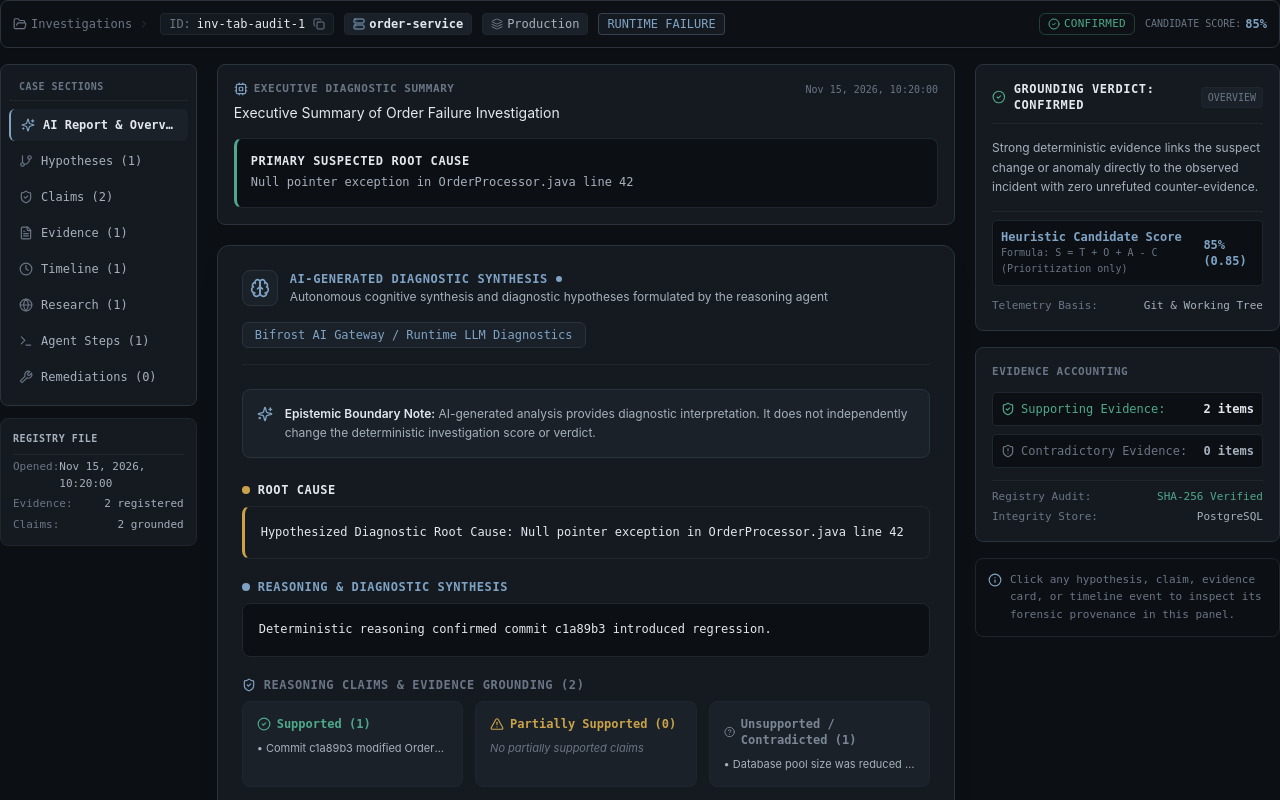
Test case: Phase 2.36 — Investigation Dossier Tab Navigation & Content › renders all 7 investigation dossier tabs and switches between them cleanly
This screenshot has width=1280, height=800.
expect the element named "Investigation Dossier Tabs" is shown: met, box 9,105 -> 188,397
expect the text "Executive Summary of Order Failure Investigation" is shown: met, box 234,104 -> 560,120
Click the tab "Hypotheses (1)" at (98, 161), box 9,145 -> 188,177
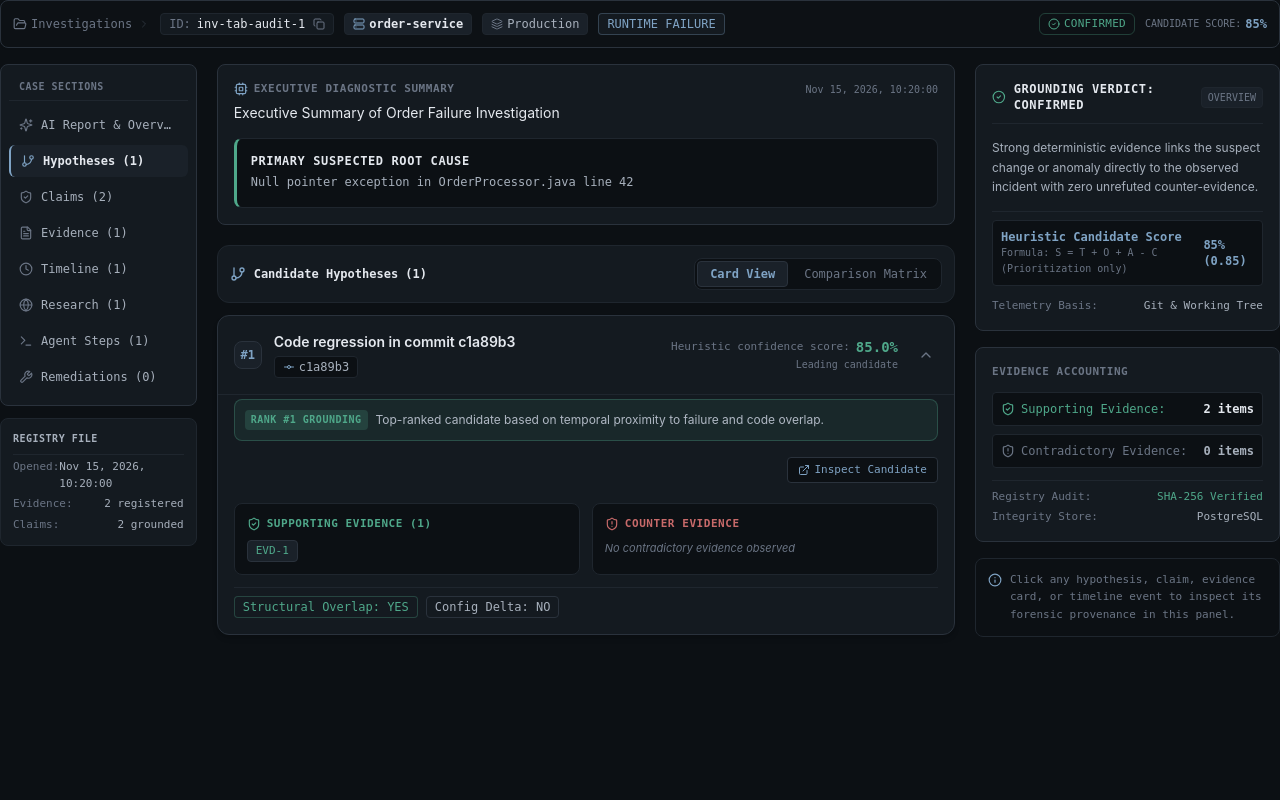
expect the heading "Code regression in commit c1a89b3" is shown: met, box 274,332 -> 516,352
Click the tab "Claims (2)" at (98, 197), box 9,181 -> 188,213
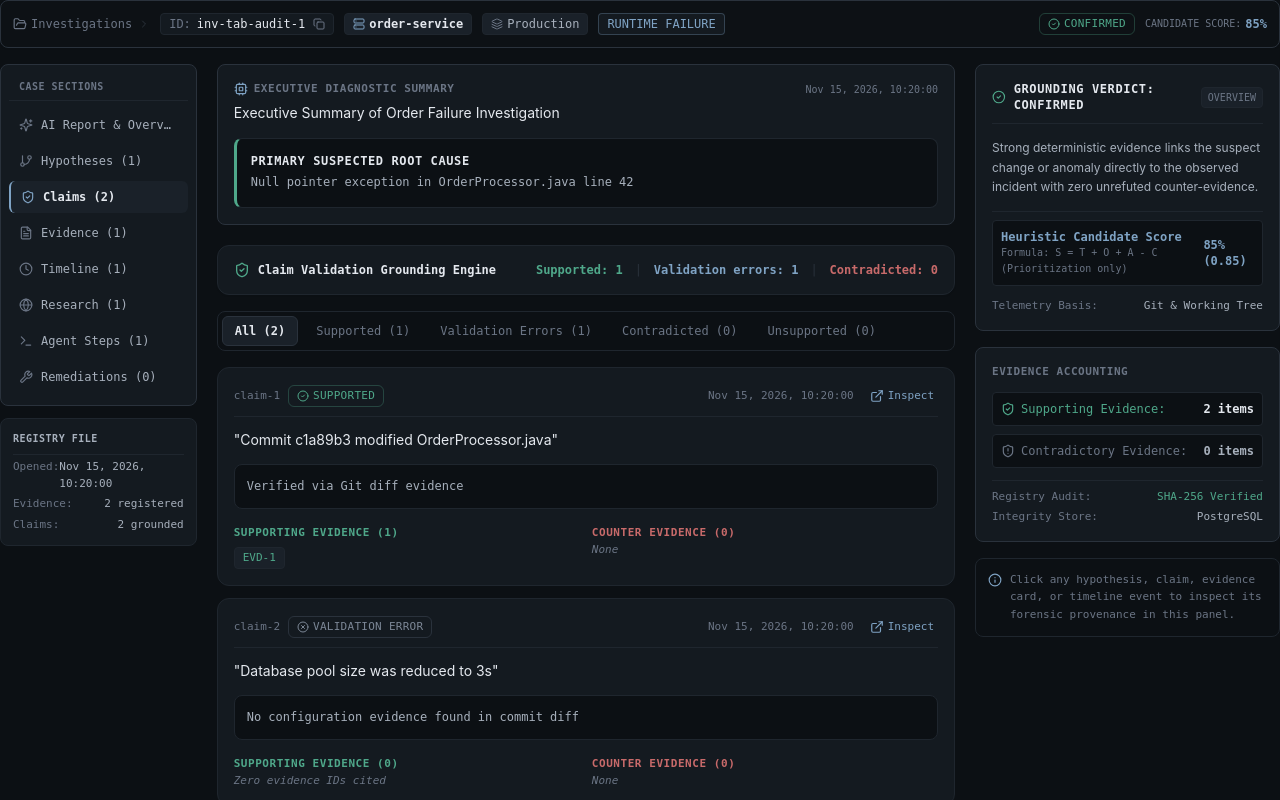
expect the text "\"Commit c1a89b3 modified OrderProcessor.java\"" is shown: met, box 234,431 -> 558,448
expect the text "SUPPORTED" is shown: met, box 313,388 -> 375,404
expect the text "VALIDATION ERROR" is shown: met, box 313,619 -> 423,635
Click the tab "Evidence (1)" at (98, 233), box 9,217 -> 188,249
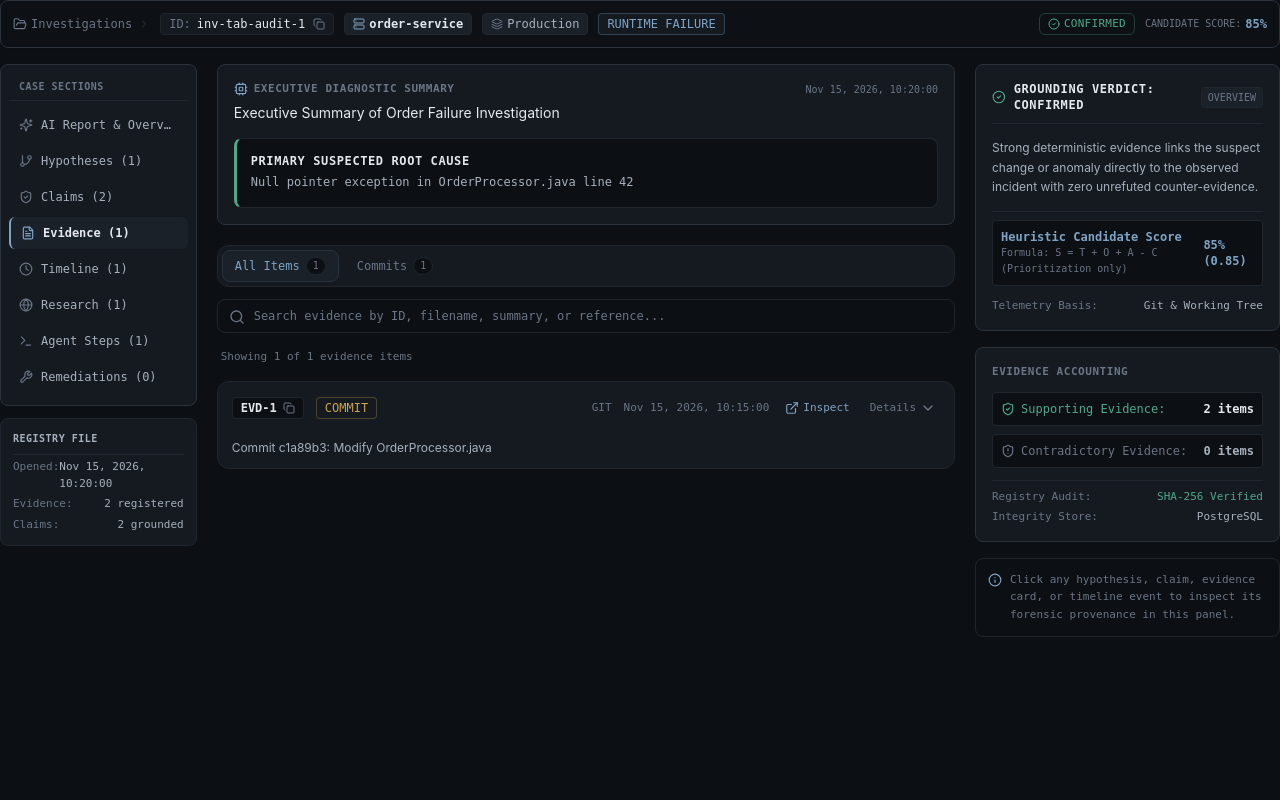
expect the text "EVD-1" is shown: met, box 241,400 -> 277,416
expect the tab "Evidence (1)" is selected: met, box 9,217 -> 188,249
Click the tab "Timeline (1)" at (98, 269), box 9,253 -> 188,285
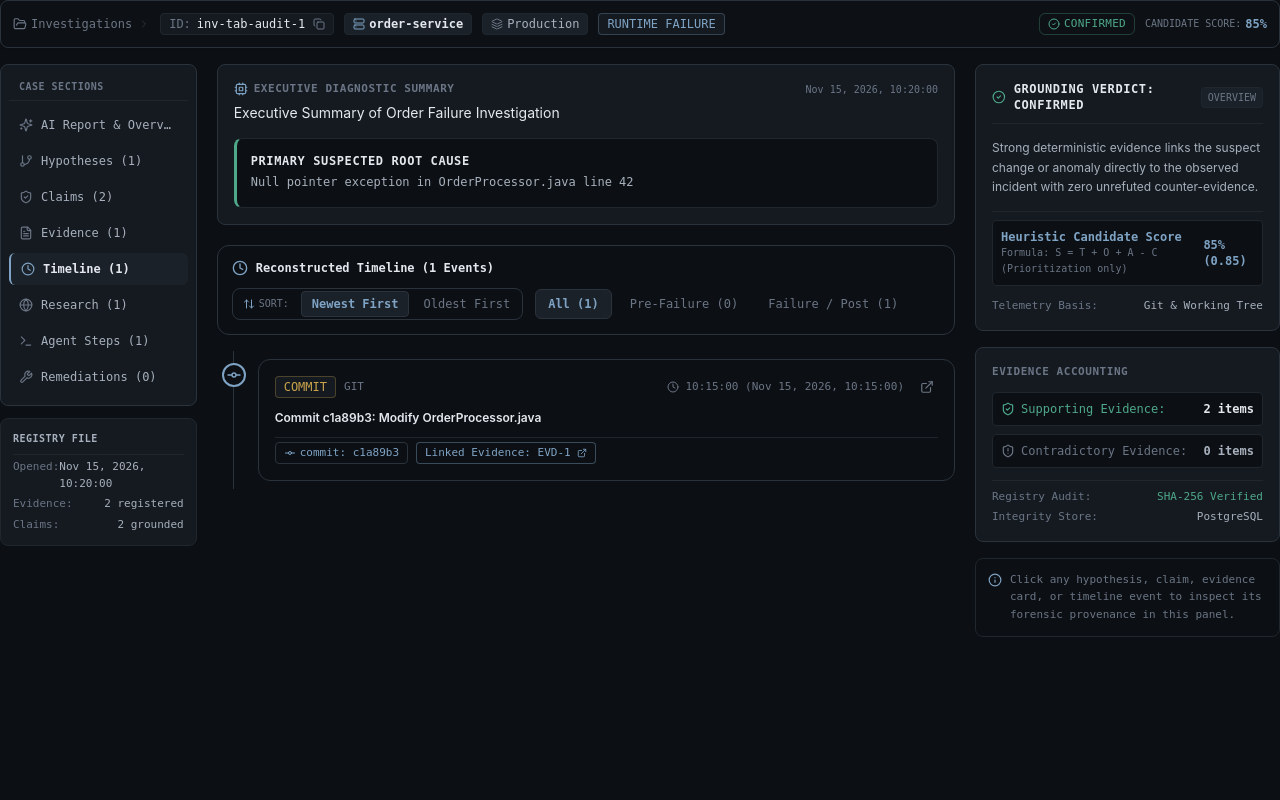
expect the tab "Timeline (1)" is selected: met, box 9,253 -> 188,285
Click the tab "Research (1)" at (98, 305), box 9,289 -> 188,321
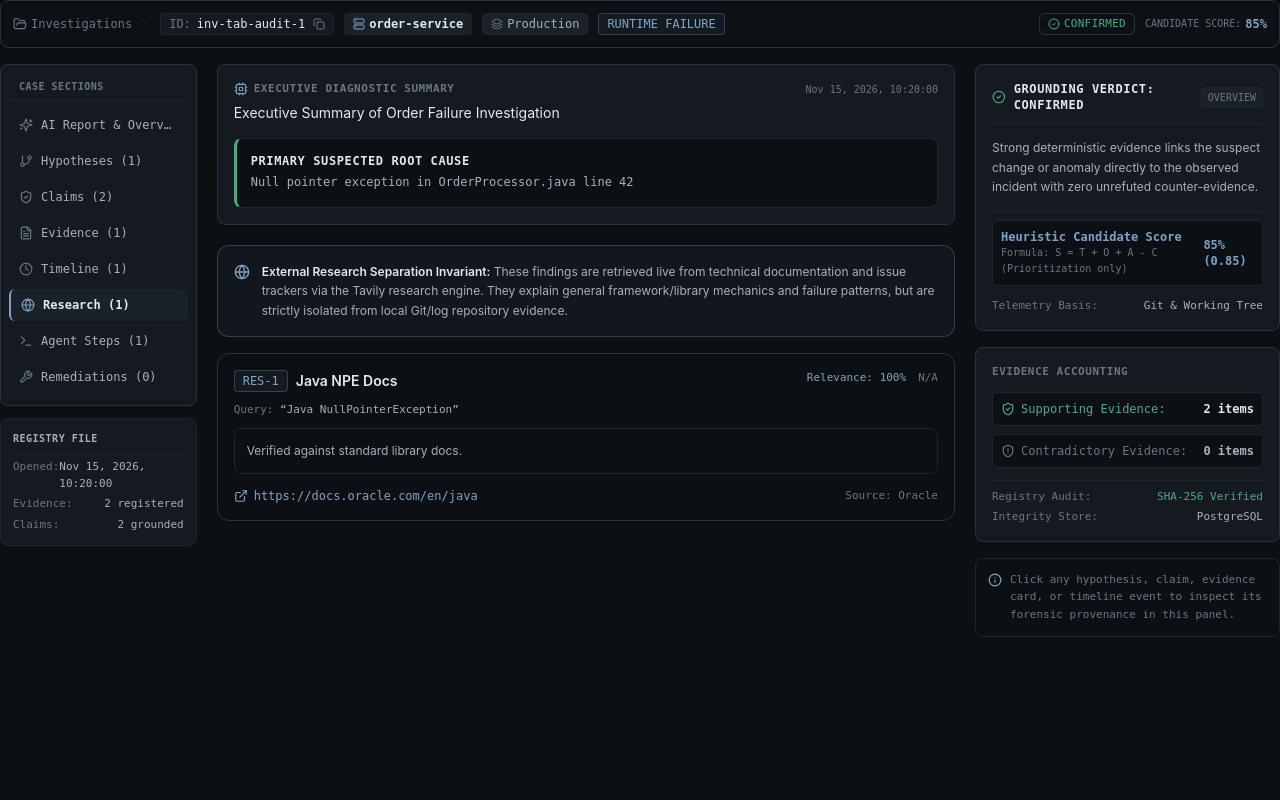
expect the text "Verified against standard library docs." is shown: met, box 234,428 -> 938,474
Click the tab "Agent Steps (1)" at (98, 341), box 9,325 -> 188,357
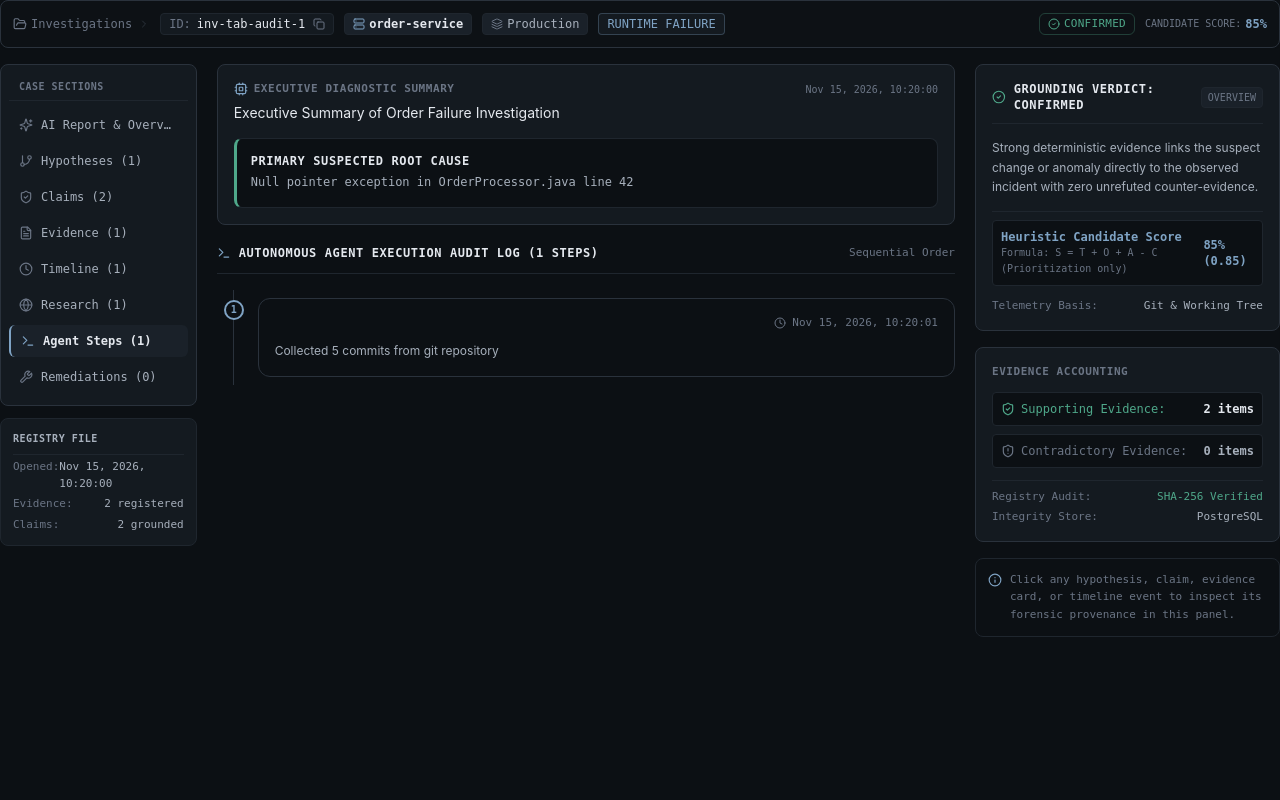
expect the text "Collected 5 commits from git repository" is shown: met, box 275,343 -> 499,358
